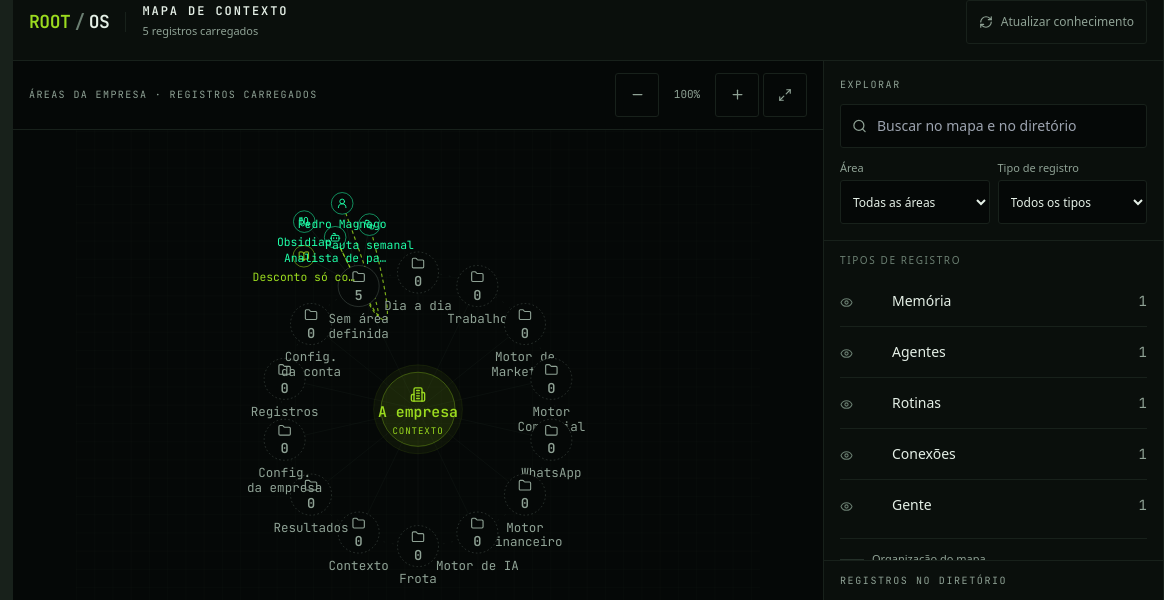
Test case: a tela do mapa › permite encontrar e abrir o registro pelo diretório sem depender do desenho
Type "desconto" into the field labelled "Buscar no mapa e no diretório". click: (994, 126)
box: [840, 104, 1147, 148]
(page scrolled)
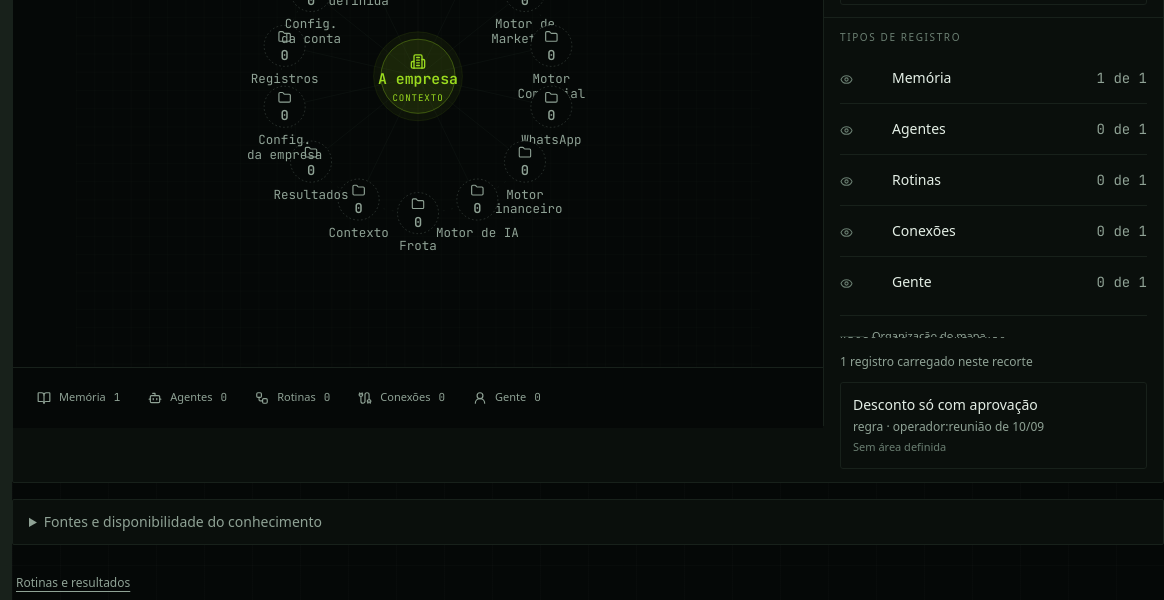
Click the button "Desconto só com aprovação". click: (994, 425)
box: [840, 382, 1147, 468]
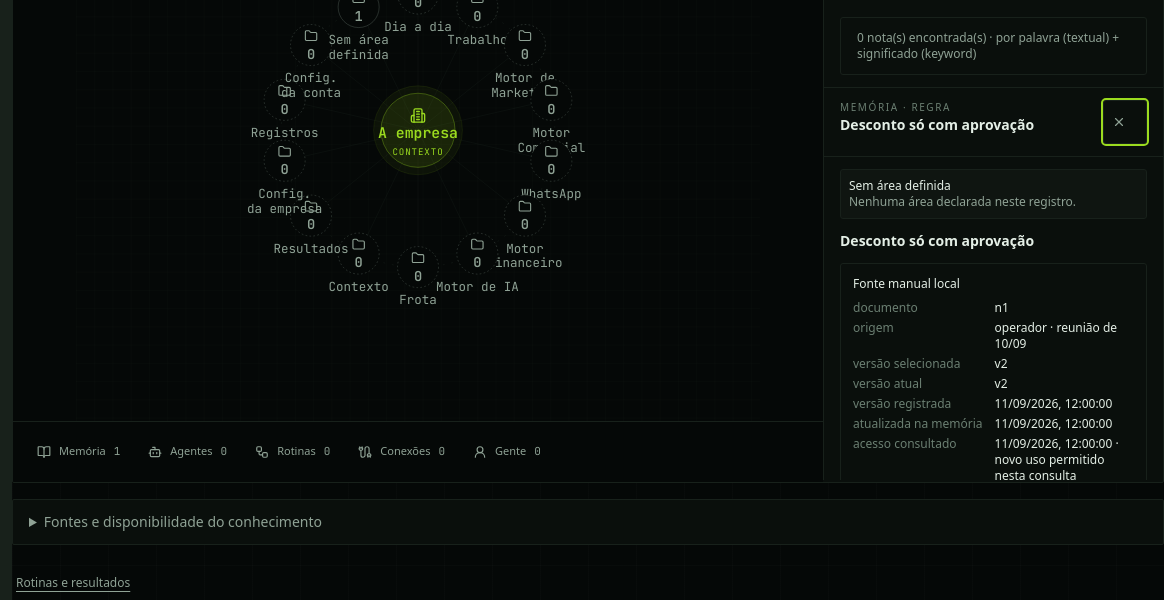
Now the element named "Registro selecionado" is shown, box [824, 88, 1163, 480]
